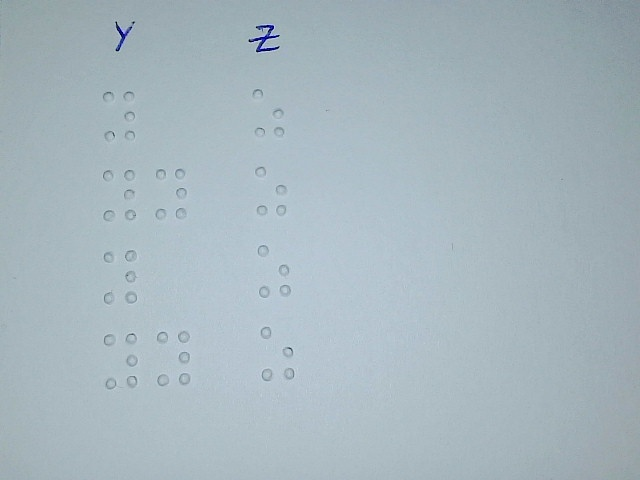Y: (102, 247, 138, 305), (155, 328, 191, 386), (102, 331, 138, 389), (101, 88, 137, 142), (153, 166, 189, 220)
Z: (259, 324, 296, 381), (250, 86, 286, 140), (253, 163, 289, 217), (256, 243, 292, 297)
